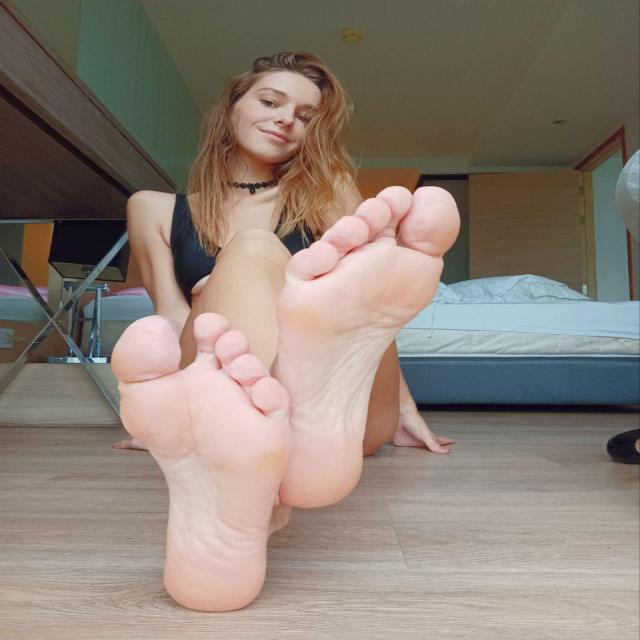Barefoots: (262, 175, 456, 521), (95, 304, 288, 618)
